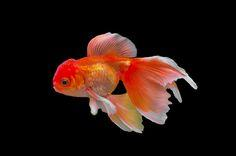goldfish: (47, 43, 198, 129)
